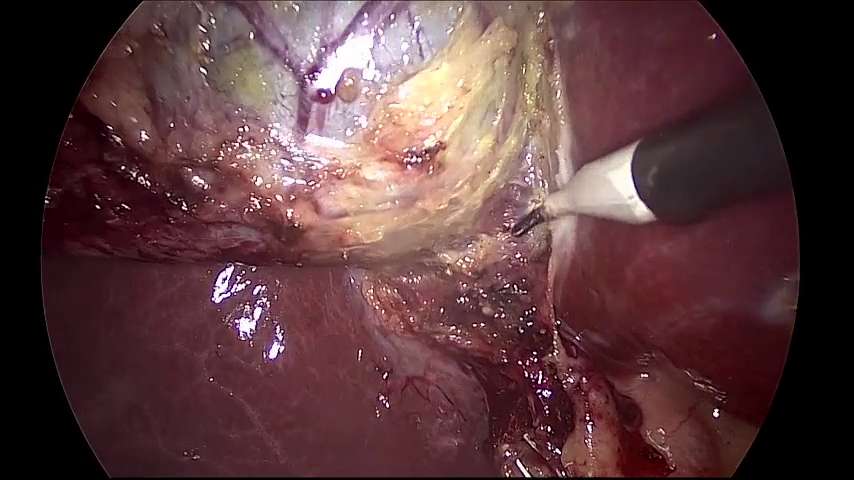lhook: (511, 89, 794, 236)
